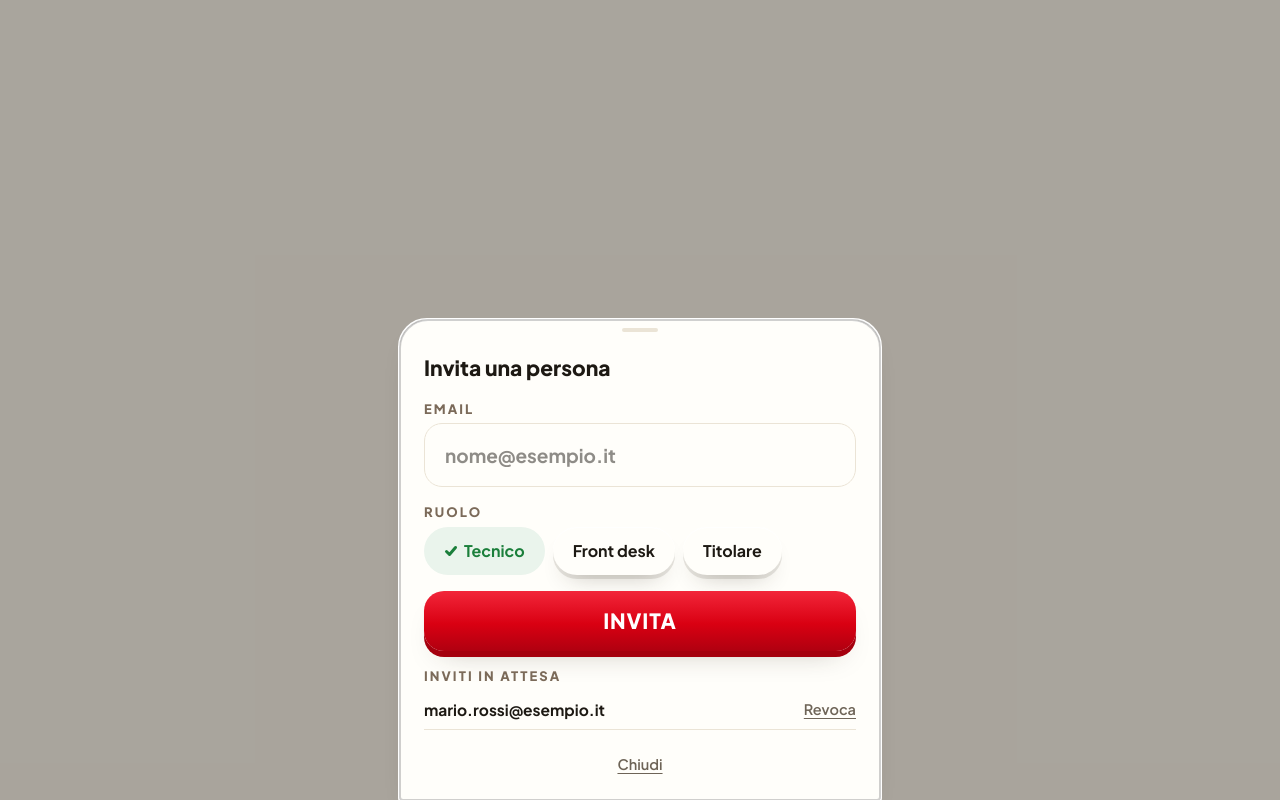
Test: InvitoPersonaSheet (Task 13) › inviti pendenti renderizzati dal GET mockato + revoca chiama DELETE /api/tecnici/invite/{id}
The image size is (1280, 800).
Expected: the list item "mario.rossi@esempio.it" is shown, x1=424 y1=700 x2=605 y2=719
Click the button "Revoca".
click(830, 710)  # box x1=804 y1=686 x2=856 y2=734
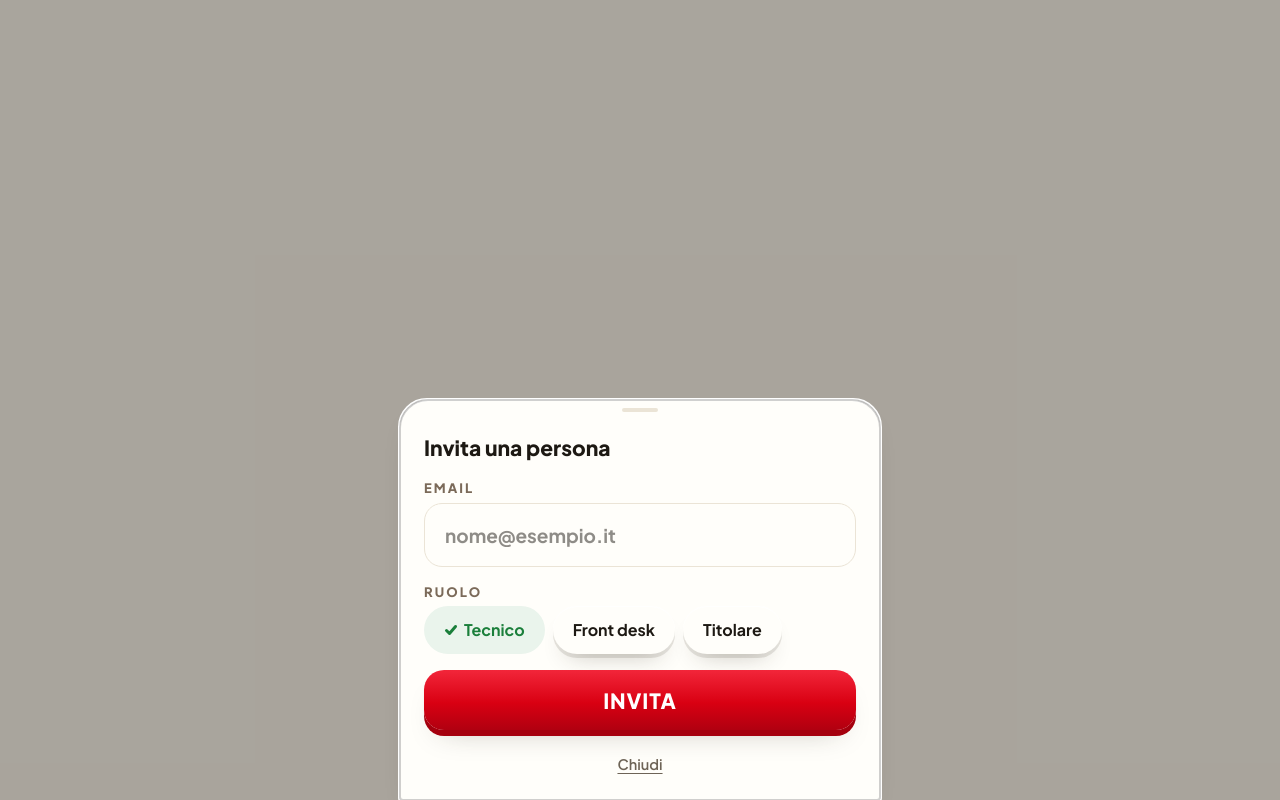
Result: the text "mario.rossi@esempio.it" is gone
